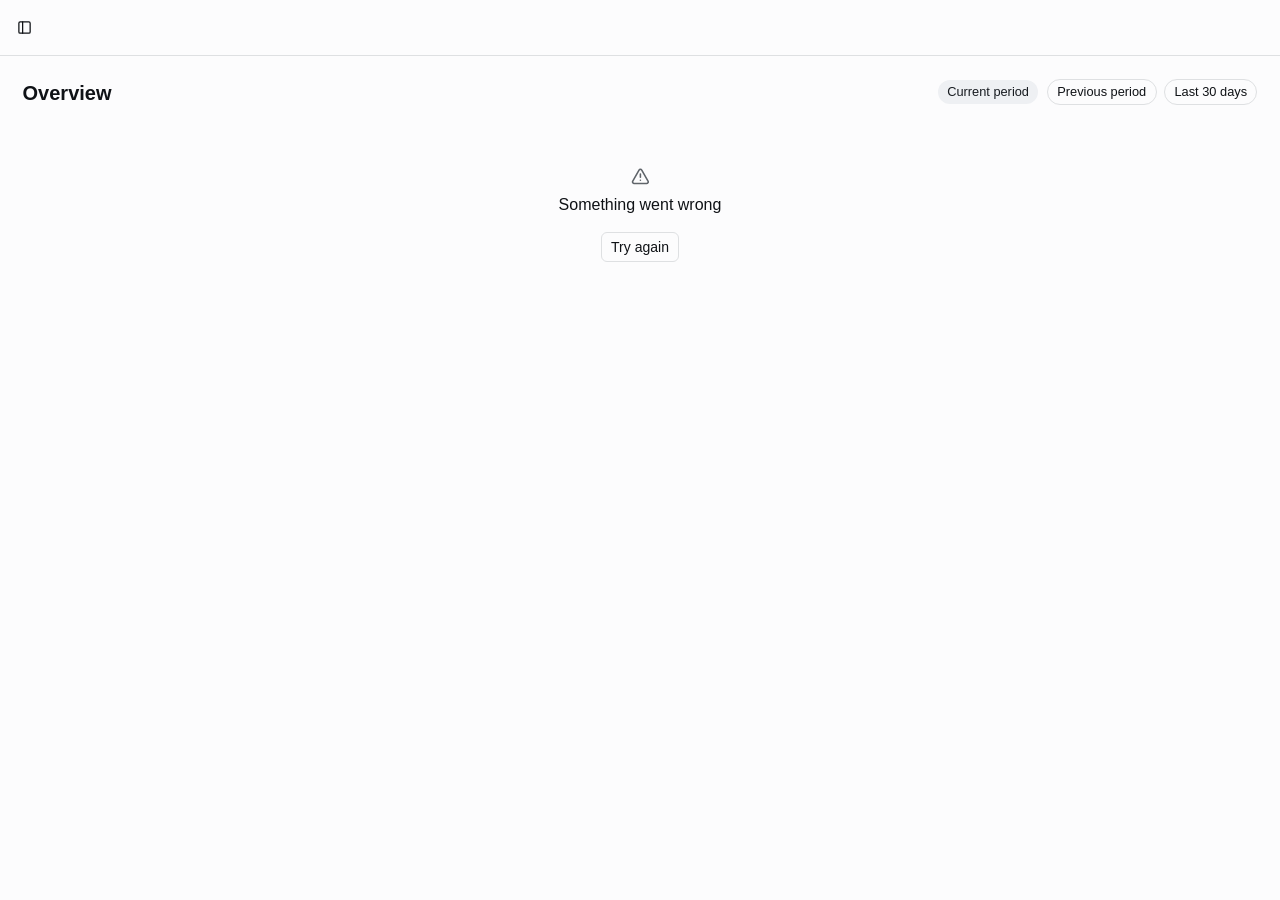
Test case: a failed overview shows Try again, which loads it again
Expected: the heading "Overview" is shown, 22,78 -> 112,106
Expected: the text "Something went wrong" is shown, 559,193 -> 721,217
Click the button "Try again" at {"x": 640, "y": 247}, box 601,232 -> 679,262
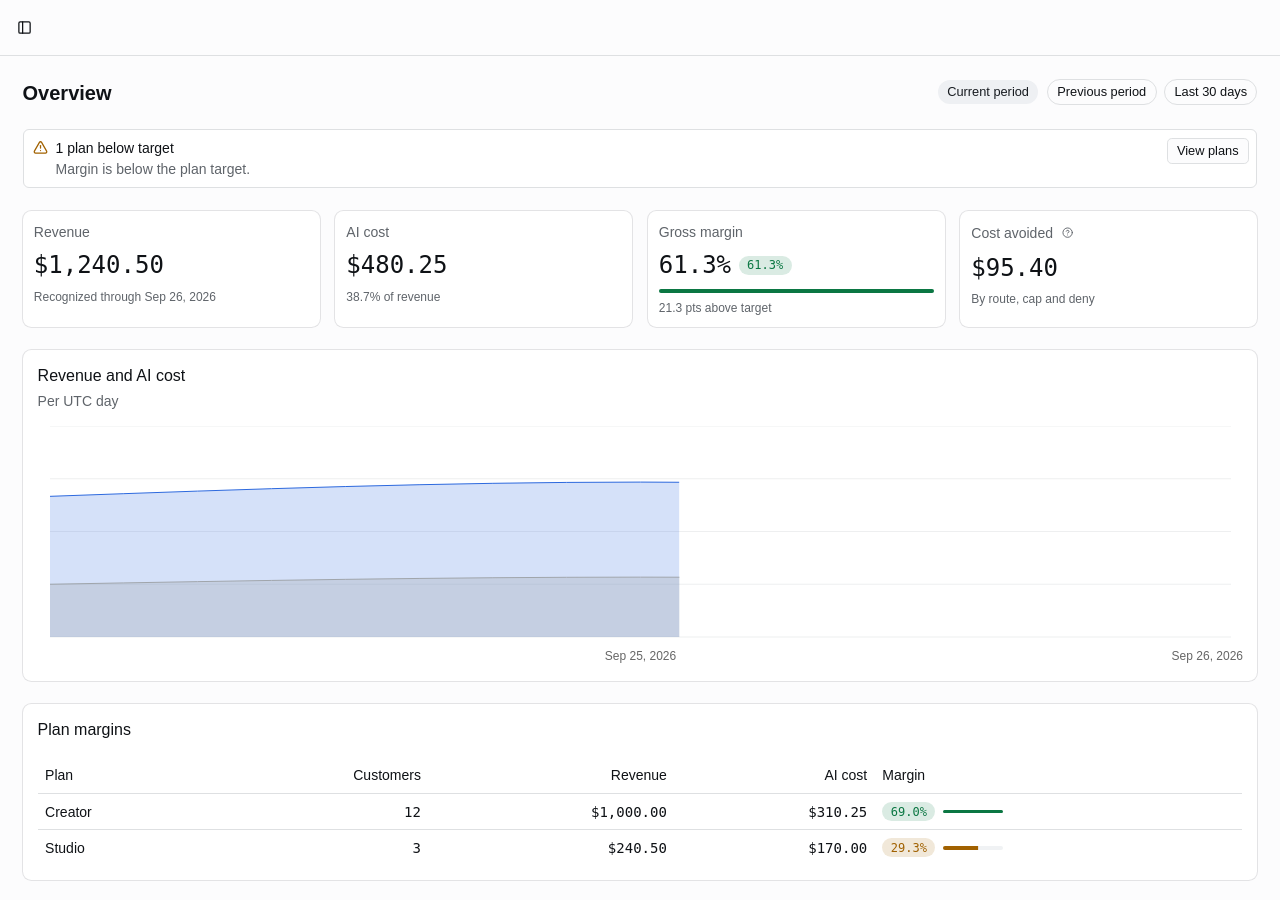
Expected: the text "$1,240.50" is shown, 34,249 -> 164,281
Expected: the text "Something went wrong" is gone
